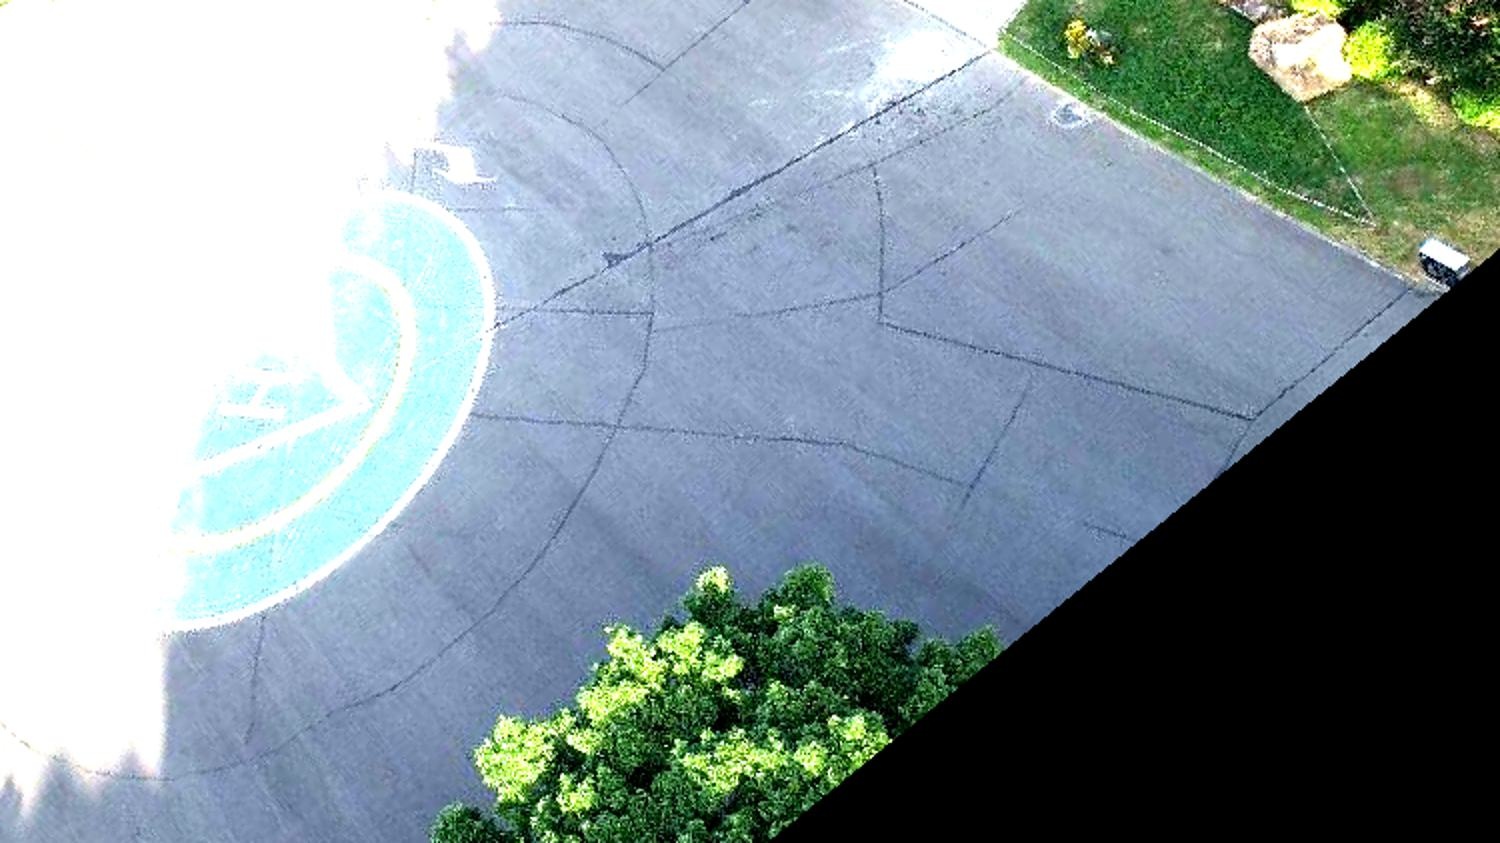Apron: (126, 232, 427, 557)
